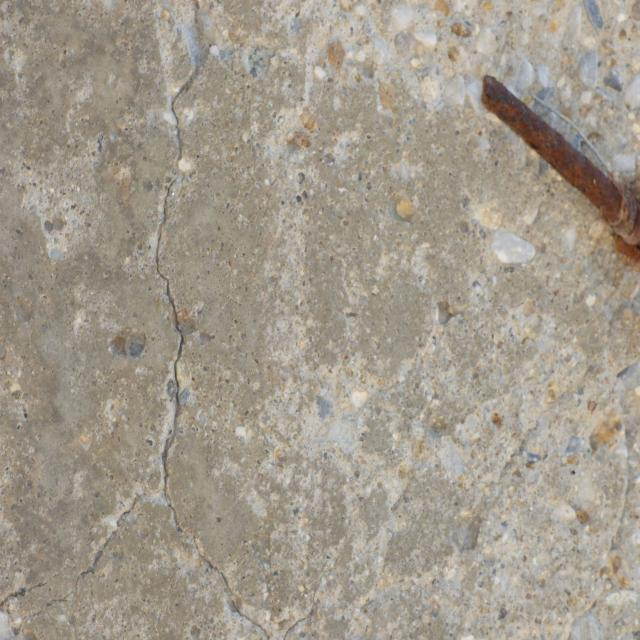corrosion: (473, 39, 640, 308)
